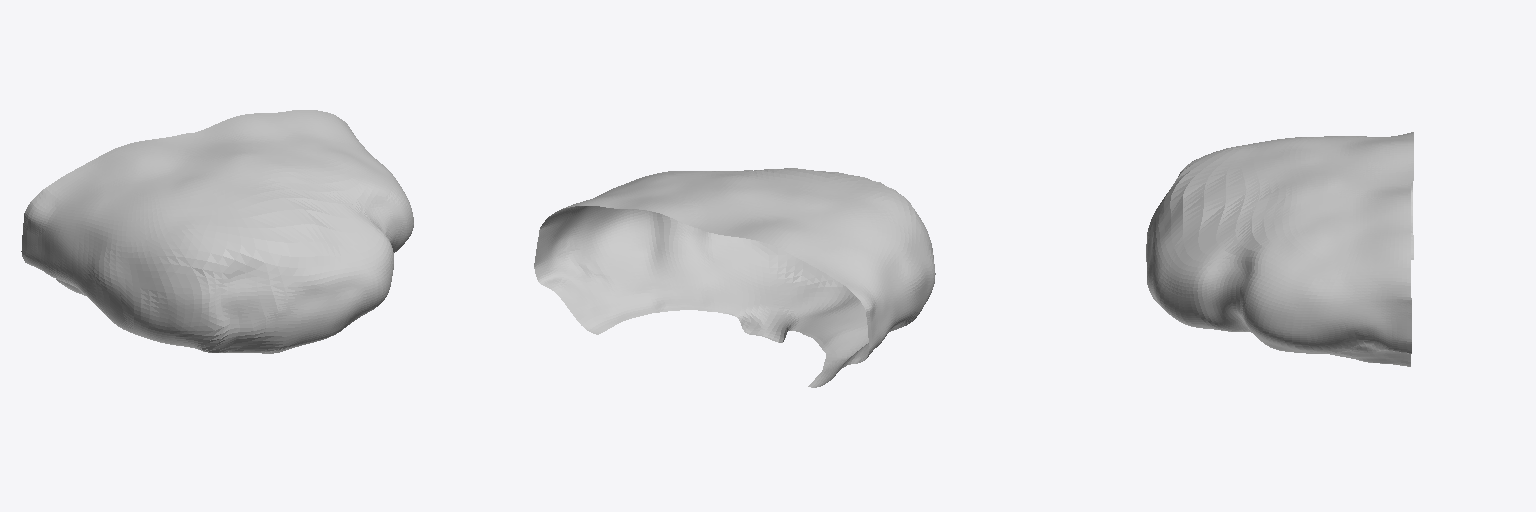
Rendered from Cavern.obj.
The picture shows the model from 3 angles: view 1: azimuth 30°, elevation 25°; view 2: azimuth 150°, elevation 25°; view 3: azimuth 270°, elevation 25°; orthographic projection.
Parts seen in each view (by area): view 1: Grotte; view 2: Grotte; view 3: Grotte.
Boxes of the visible parts, box(x1,y1,x2,y2) form: Grotte: box(21, 110, 413, 353); Grotte: box(534, 168, 935, 387); Grotte: box(1146, 132, 1413, 366).
Bounding box in the file's own units: 343 × 157 × 236.